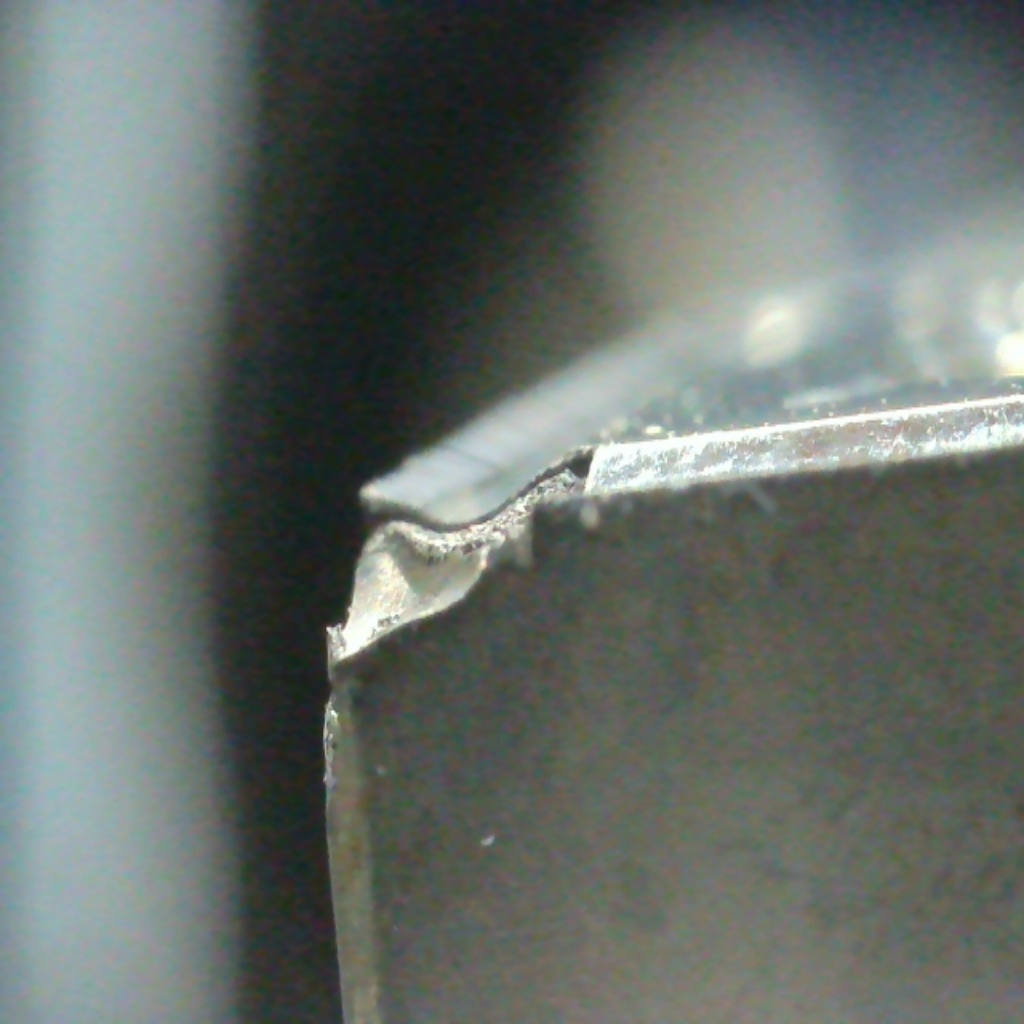flank_wear: (339, 525, 503, 661)
